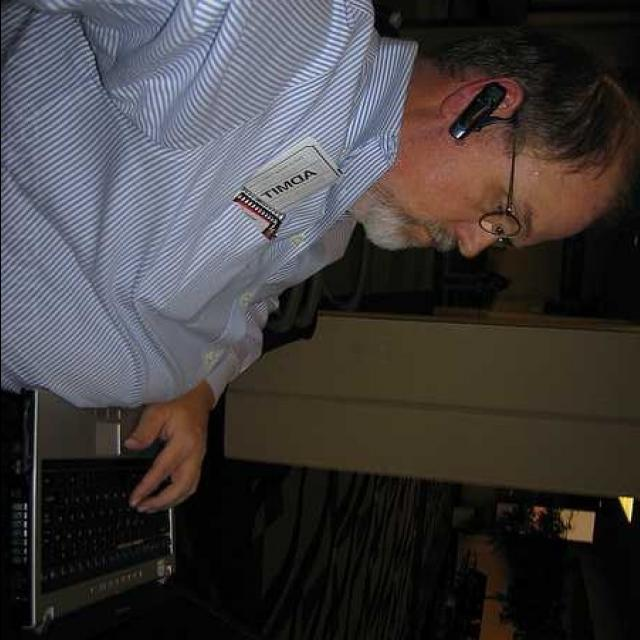laptop: (16, 382, 256, 639)
